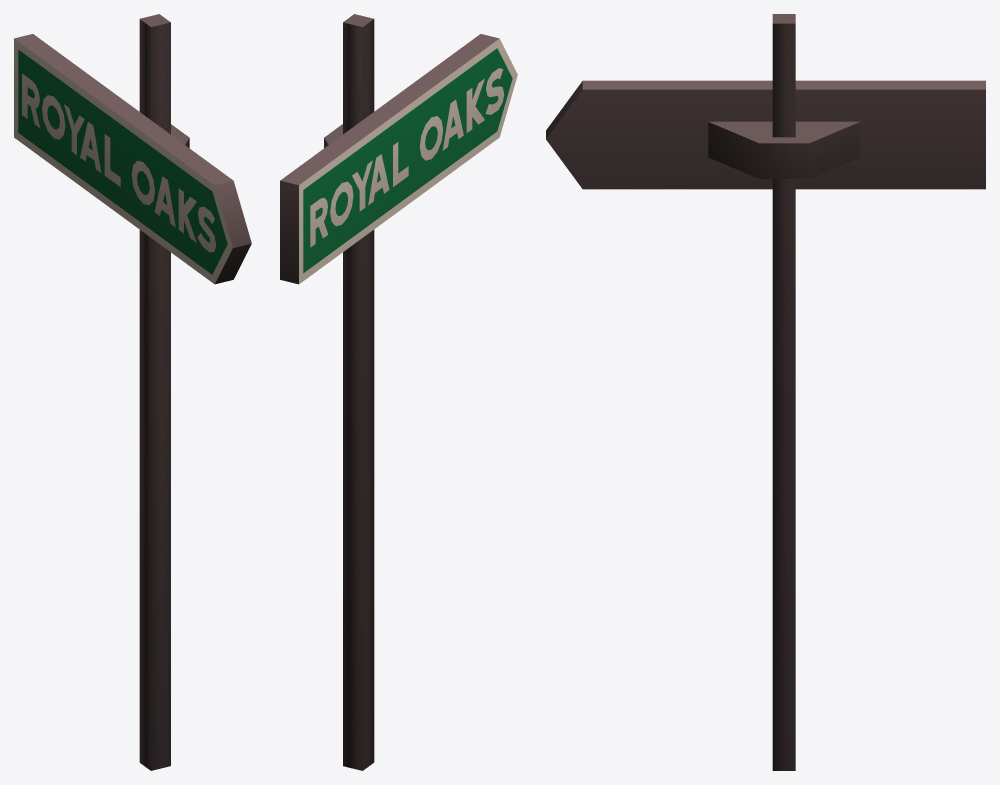
File: TSP_Streetsign_12A.fbx
3 views of the same model, side by side, from view 1: azimuth 30°, elevation 25°; view 2: azimuth 150°, elevation 25°; view 3: azimuth 270°, elevation 25° (orthographic).
Parts seen in each view (by area): view 1: TSP_Streetsign_12A; view 2: TSP_Streetsign_12A; view 3: TSP_Streetsign_12A.
Part boxes in pixels (x1=…): TSP_Streetsign_12A: x1=14, y1=14, x2=251, y2=770; TSP_Streetsign_12A: x1=280, y1=14, x2=517, y2=770; TSP_Streetsign_12A: x1=546, y1=14, x2=985, y2=770.
Bounding box in the file's own units: 0.2033 × 2.25 × 1.2.
